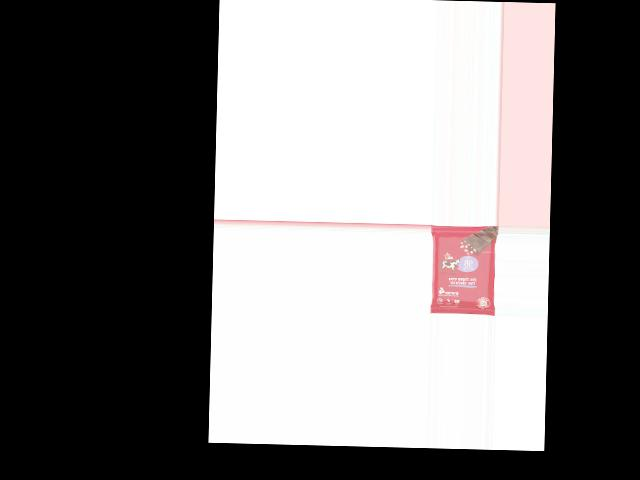chocolate: (429, 225, 495, 316)
